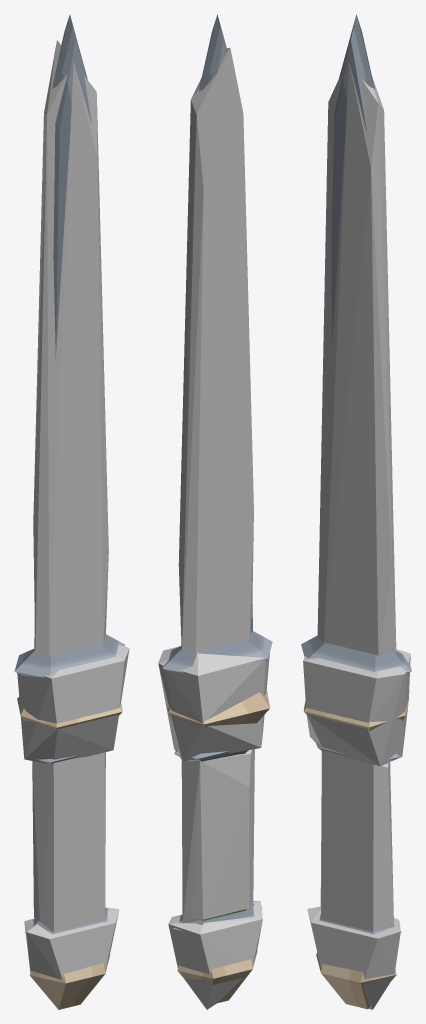
Rendered from SM_Item_Letter_Opener_01.fbx.
3 views of the same model, side by side, from view 1: azimuth 30°, elevation 25°; view 2: azimuth 210°, elevation 25°; view 3: azimuth 330°, elevation 25° (orthographic).
Parts seen in each view (by area): view 1: SM_Item_Letter_Opener_01_ConvexHulls, SM_Item_Letter_Opener_01; view 2: SM_Item_Letter_Opener_01_ConvexHulls, SM_Item_Letter_Opener_01; view 3: SM_Item_Letter_Opener_01_ConvexHulls, SM_Item_Letter_Opener_01.
Part boxes in pixels (x1,y1,x2,y2): SM_Item_Letter_Opener_01_ConvexHulls: (17,40,129,979); SM_Item_Letter_Opener_01: (14,14,125,1009); SM_Item_Letter_Opener_01_ConvexHulls: (158,47,269,1009); SM_Item_Letter_Opener_01: (162,14,272,1002); SM_Item_Letter_Opener_01_ConvexHulls: (303,61,410,1009); SM_Item_Letter_Opener_01: (301,14,411,1009).
Size of the model in its own units: 5.42 by 3.36 by 46.47.
2 materials, 1 textured.
